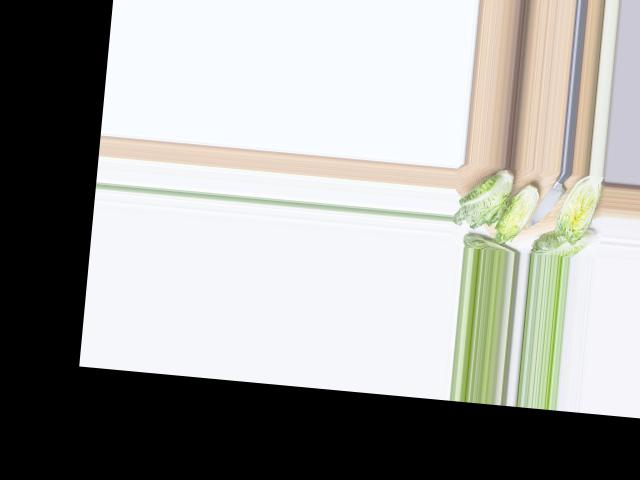lettuce: (532, 224, 595, 256)
